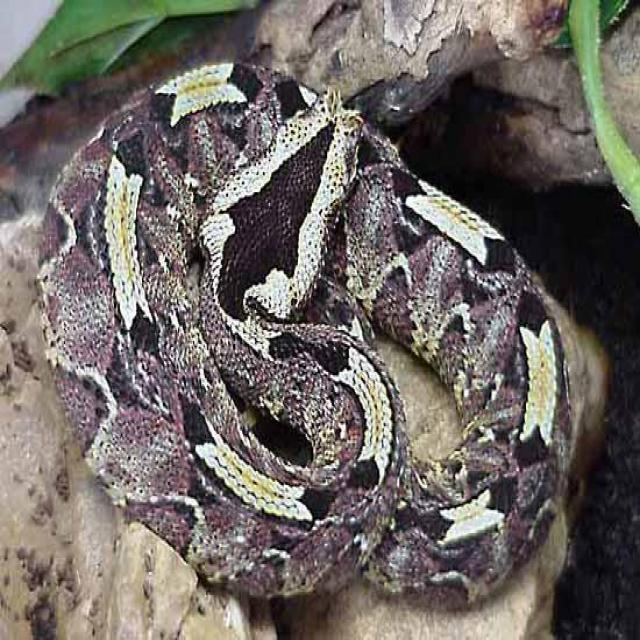Snake: (35, 59, 610, 610)
